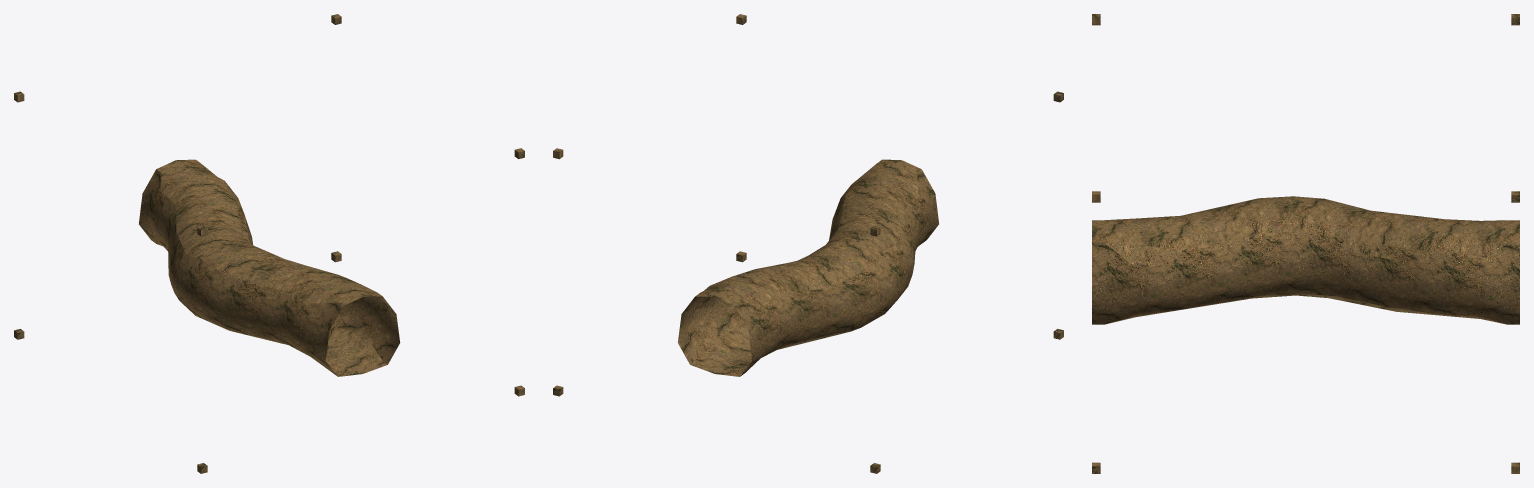
File: lba_2g.glb
The picture shows the model from 3 angles, left to right: view 1: azimuth 30°, elevation 25°; view 2: azimuth 150°, elevation 25°; view 3: azimuth 270°, elevation 25°; orthographic projection. The views are drawn at different scales.
Visible parts, largest first — view 1: lba_2g-col; view 2: lba_2g-col; view 3: lba_2g-col.
Part boxes in pixels (x1=…): lba_2g-col: x1=14, y1=14, x2=524, y2=473; lba_2g-col: x1=553, y1=14, x2=1063, y2=473; lba_2g-col: x1=1092, y1=14, x2=1519, y2=473.
Size of the model in its own units: 15 by 10.8 by 15.
Materials: 1 (1 with a texture image).
